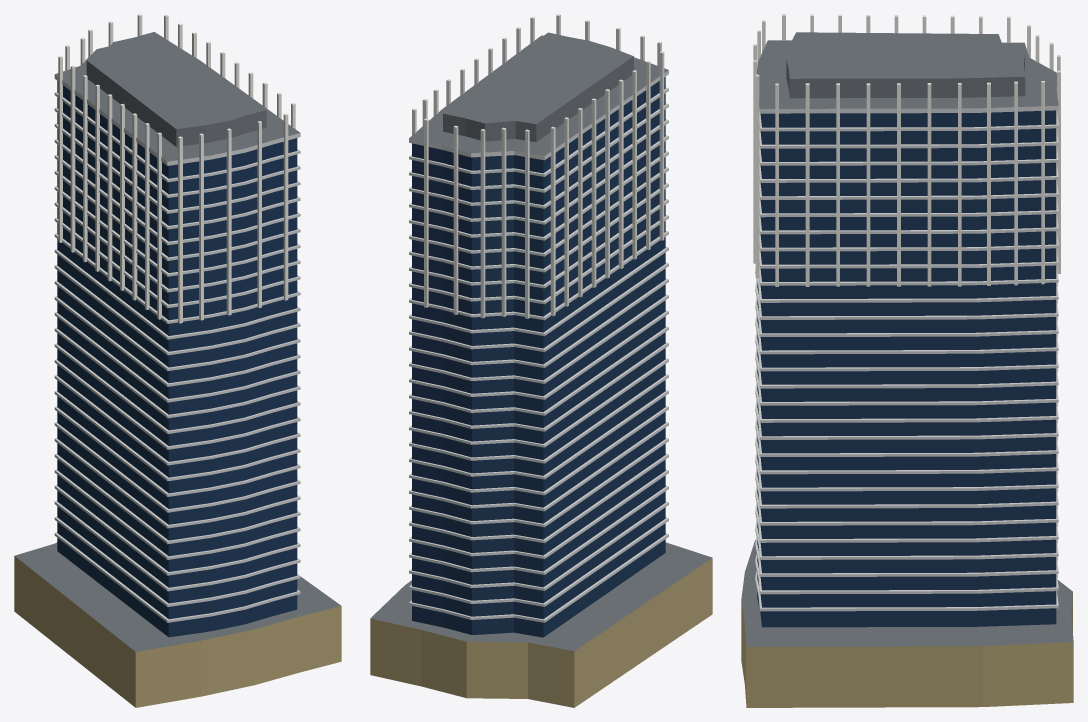
File: palms_place.glb
The picture shows the model from 3 angles, left to right: view 1: azimuth 30°, elevation 25°; view 2: azimuth 150°, elevation 25°; view 3: azimuth 270°, elevation 25°; orthographic projection. The views are drawn at different scales.
Visible parts, largest first — view 1: Tower; view 2: Tower; view 3: Tower.
Part boxes in pixels (x1,y1,x2,y2): Tower: [14, 14, 341, 707]; Tower: [370, 14, 712, 707]; Tower: [741, 14, 1073, 707].
Size of the model in its own units: 60.38 by 159 by 79.08.
